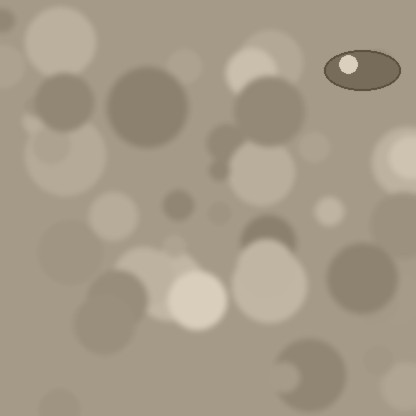gota: (324, 52, 400, 94)
